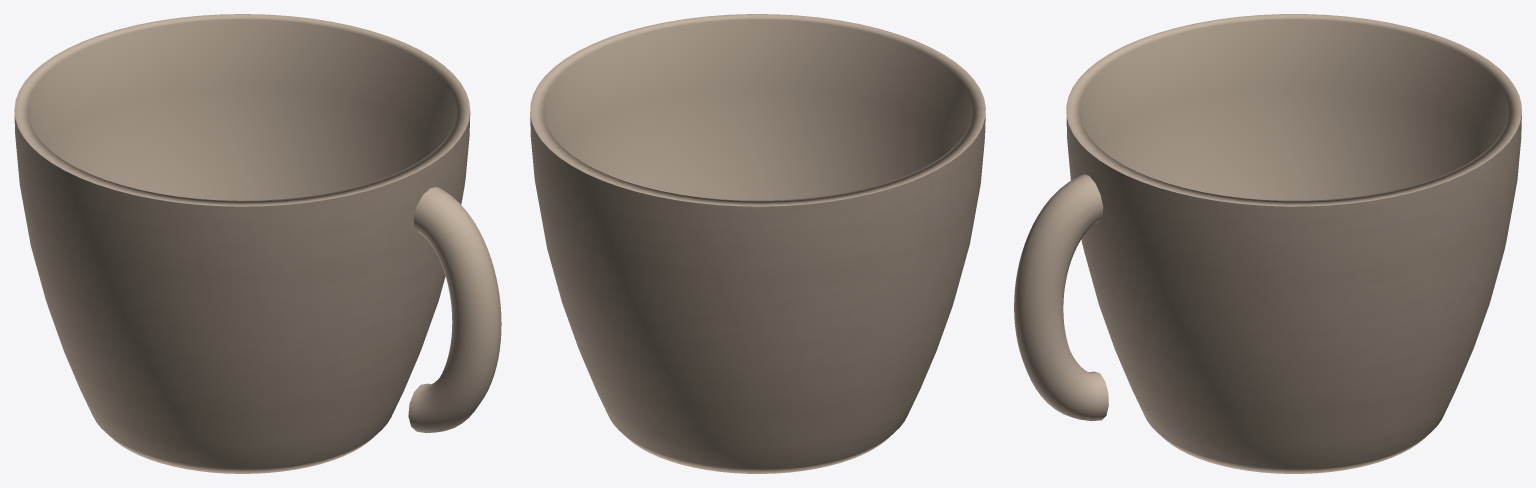
The model's file is CER-08.glb.
The picture shows the model from 3 angles, left to right: view 1: azimuth 30°, elevation 25°; view 2: azimuth 150°, elevation 25°; view 3: azimuth 270°, elevation 25°; orthographic projection.
Bounding box in the file's own units: 0.1149 × 0.0844 × 0.1281.
Materials: 3 (1 with a texture image).
